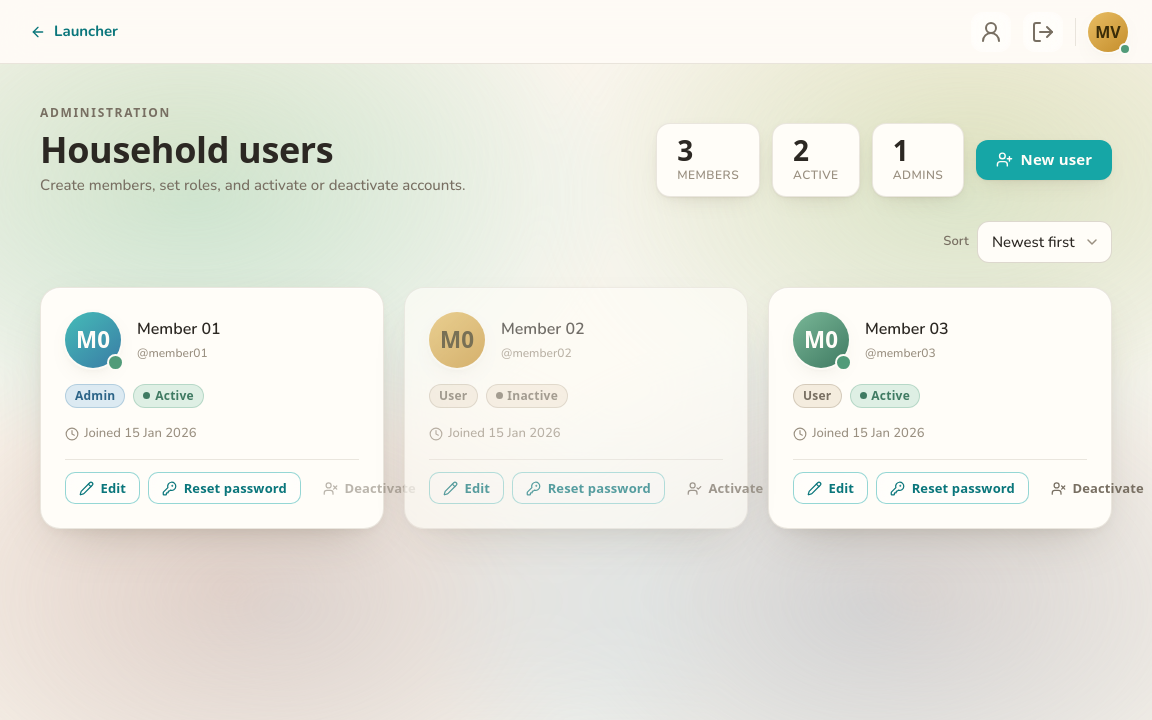
Test: administrative user management › edits a member display name and role and reflects it in the list
The image size is (1152, 720).
Expected: the text "Member 01" is shown, [137,317,221,341]
Click the button "Edit" below "member03" at coordinates (831, 488), box [793,472,868,504]
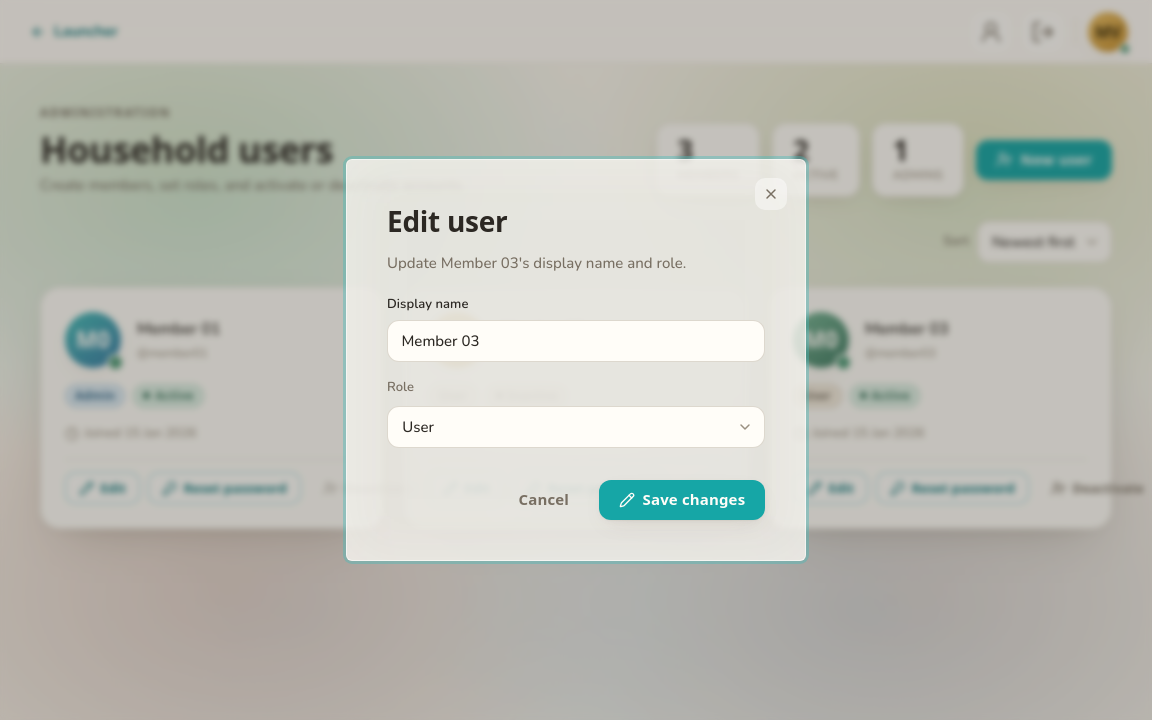
Replace the text in the field labelled "Display name" with "Renamed Member" at coordinates (576, 342), box [402,322,750,360]
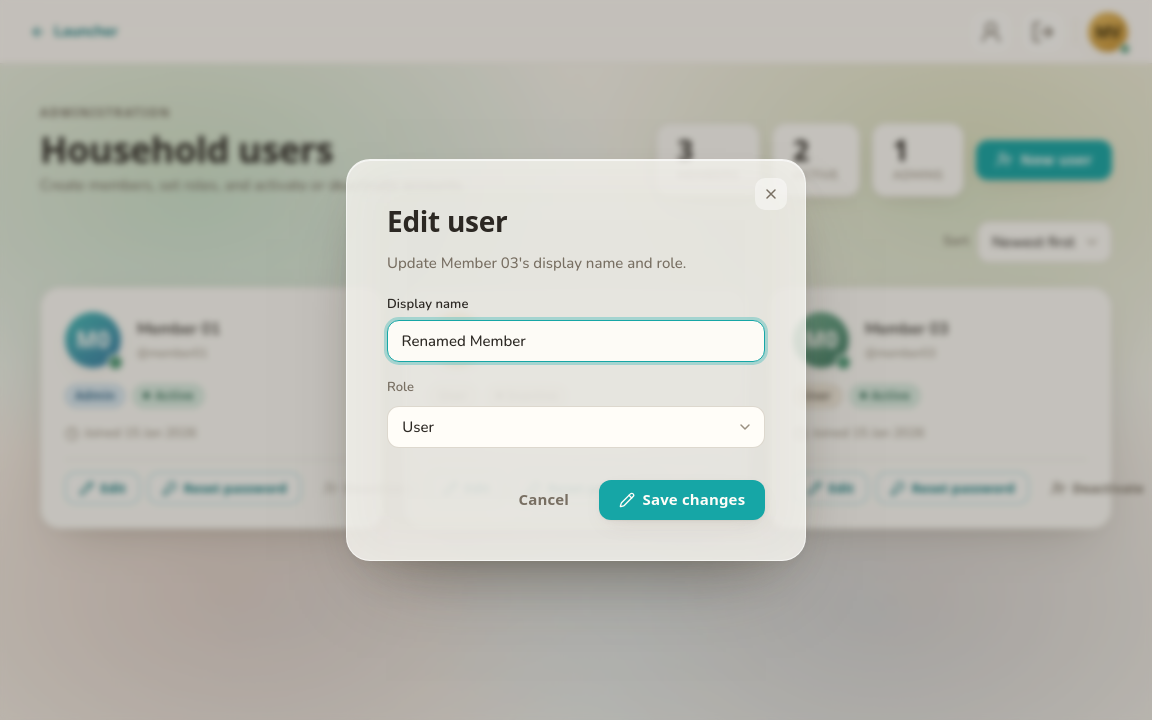
Select "Admin" in the dropdown named "Role" at coordinates (576, 427), box [388,408,764,446]
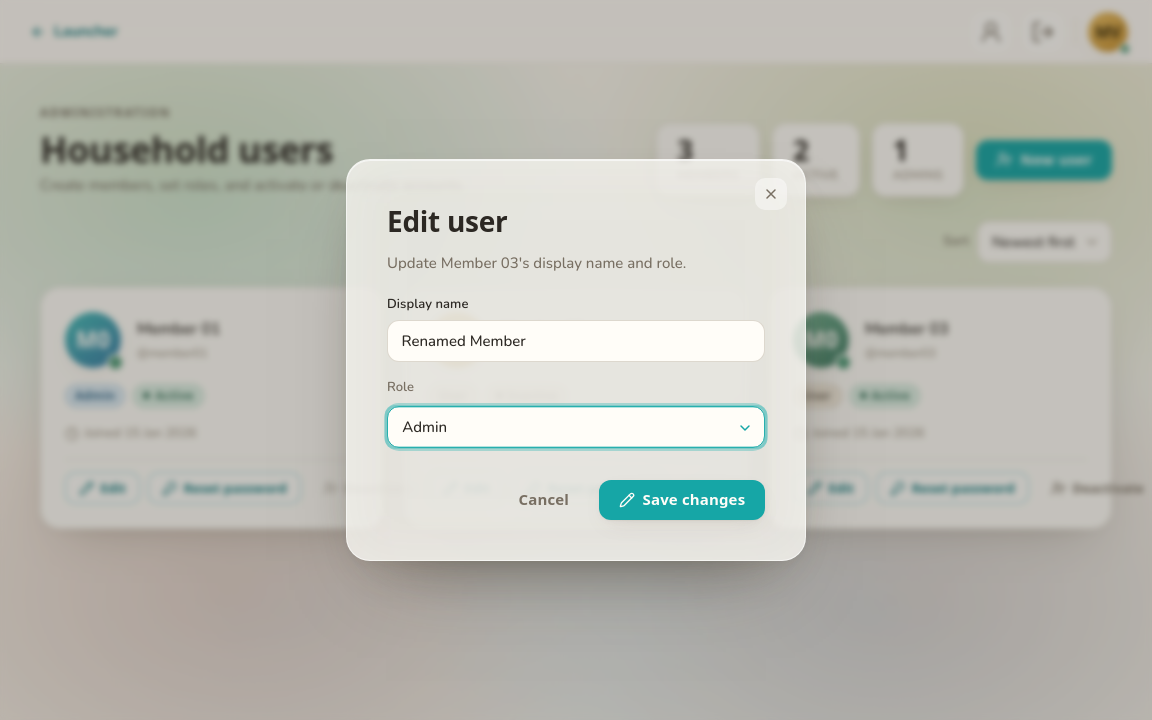
Click the button "Save changes" at coordinates (682, 500), box [599,480,765,520]
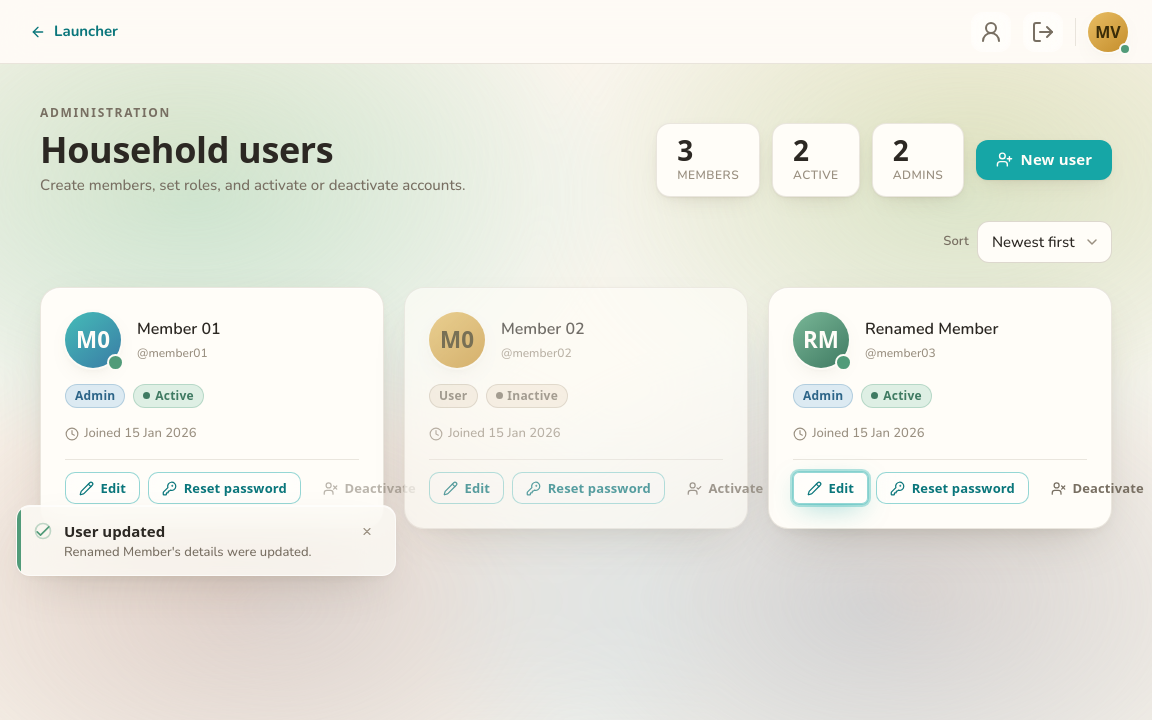
Expected: the text "User updated" is shown, [64,521,165,541]
Expected: the text "Renamed Member" is shown, [865,317,998,341]
